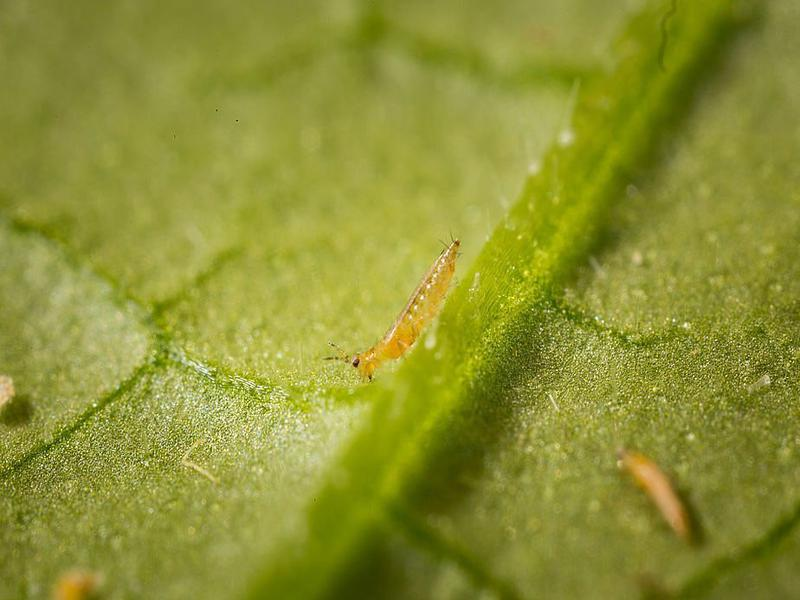Thrips: (334, 220, 497, 395), (598, 434, 695, 549)
